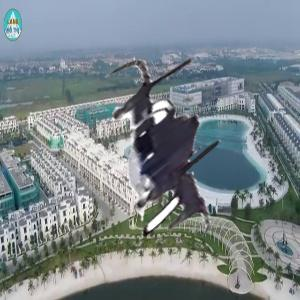drone: (62, 51, 270, 259)
